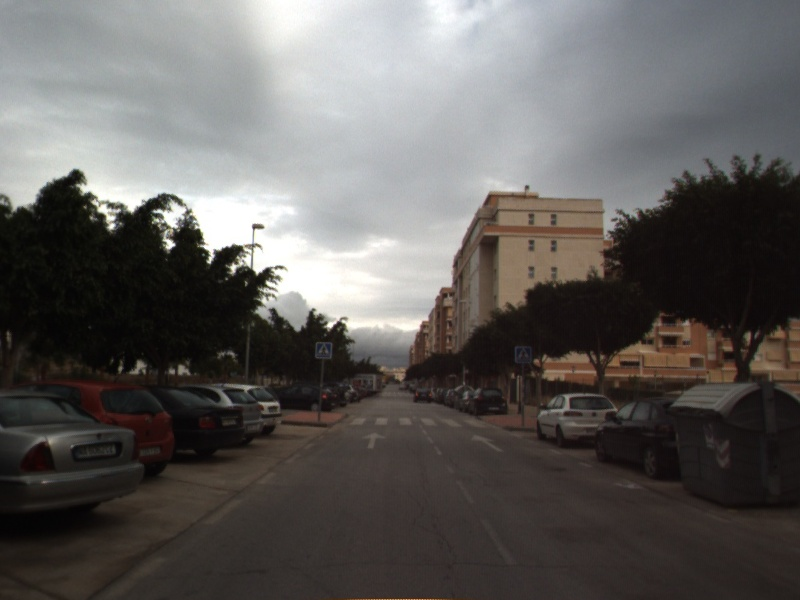STRAIGHT: (469, 432, 506, 454), (360, 430, 388, 450)
